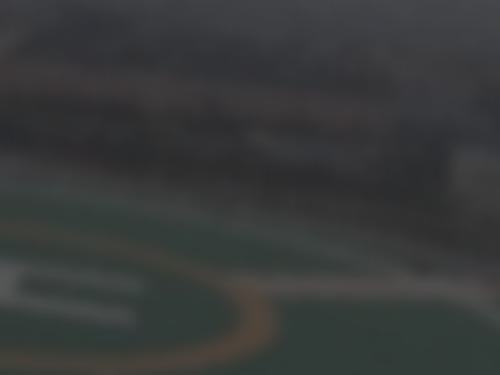Apron: (4, 189, 297, 375)
